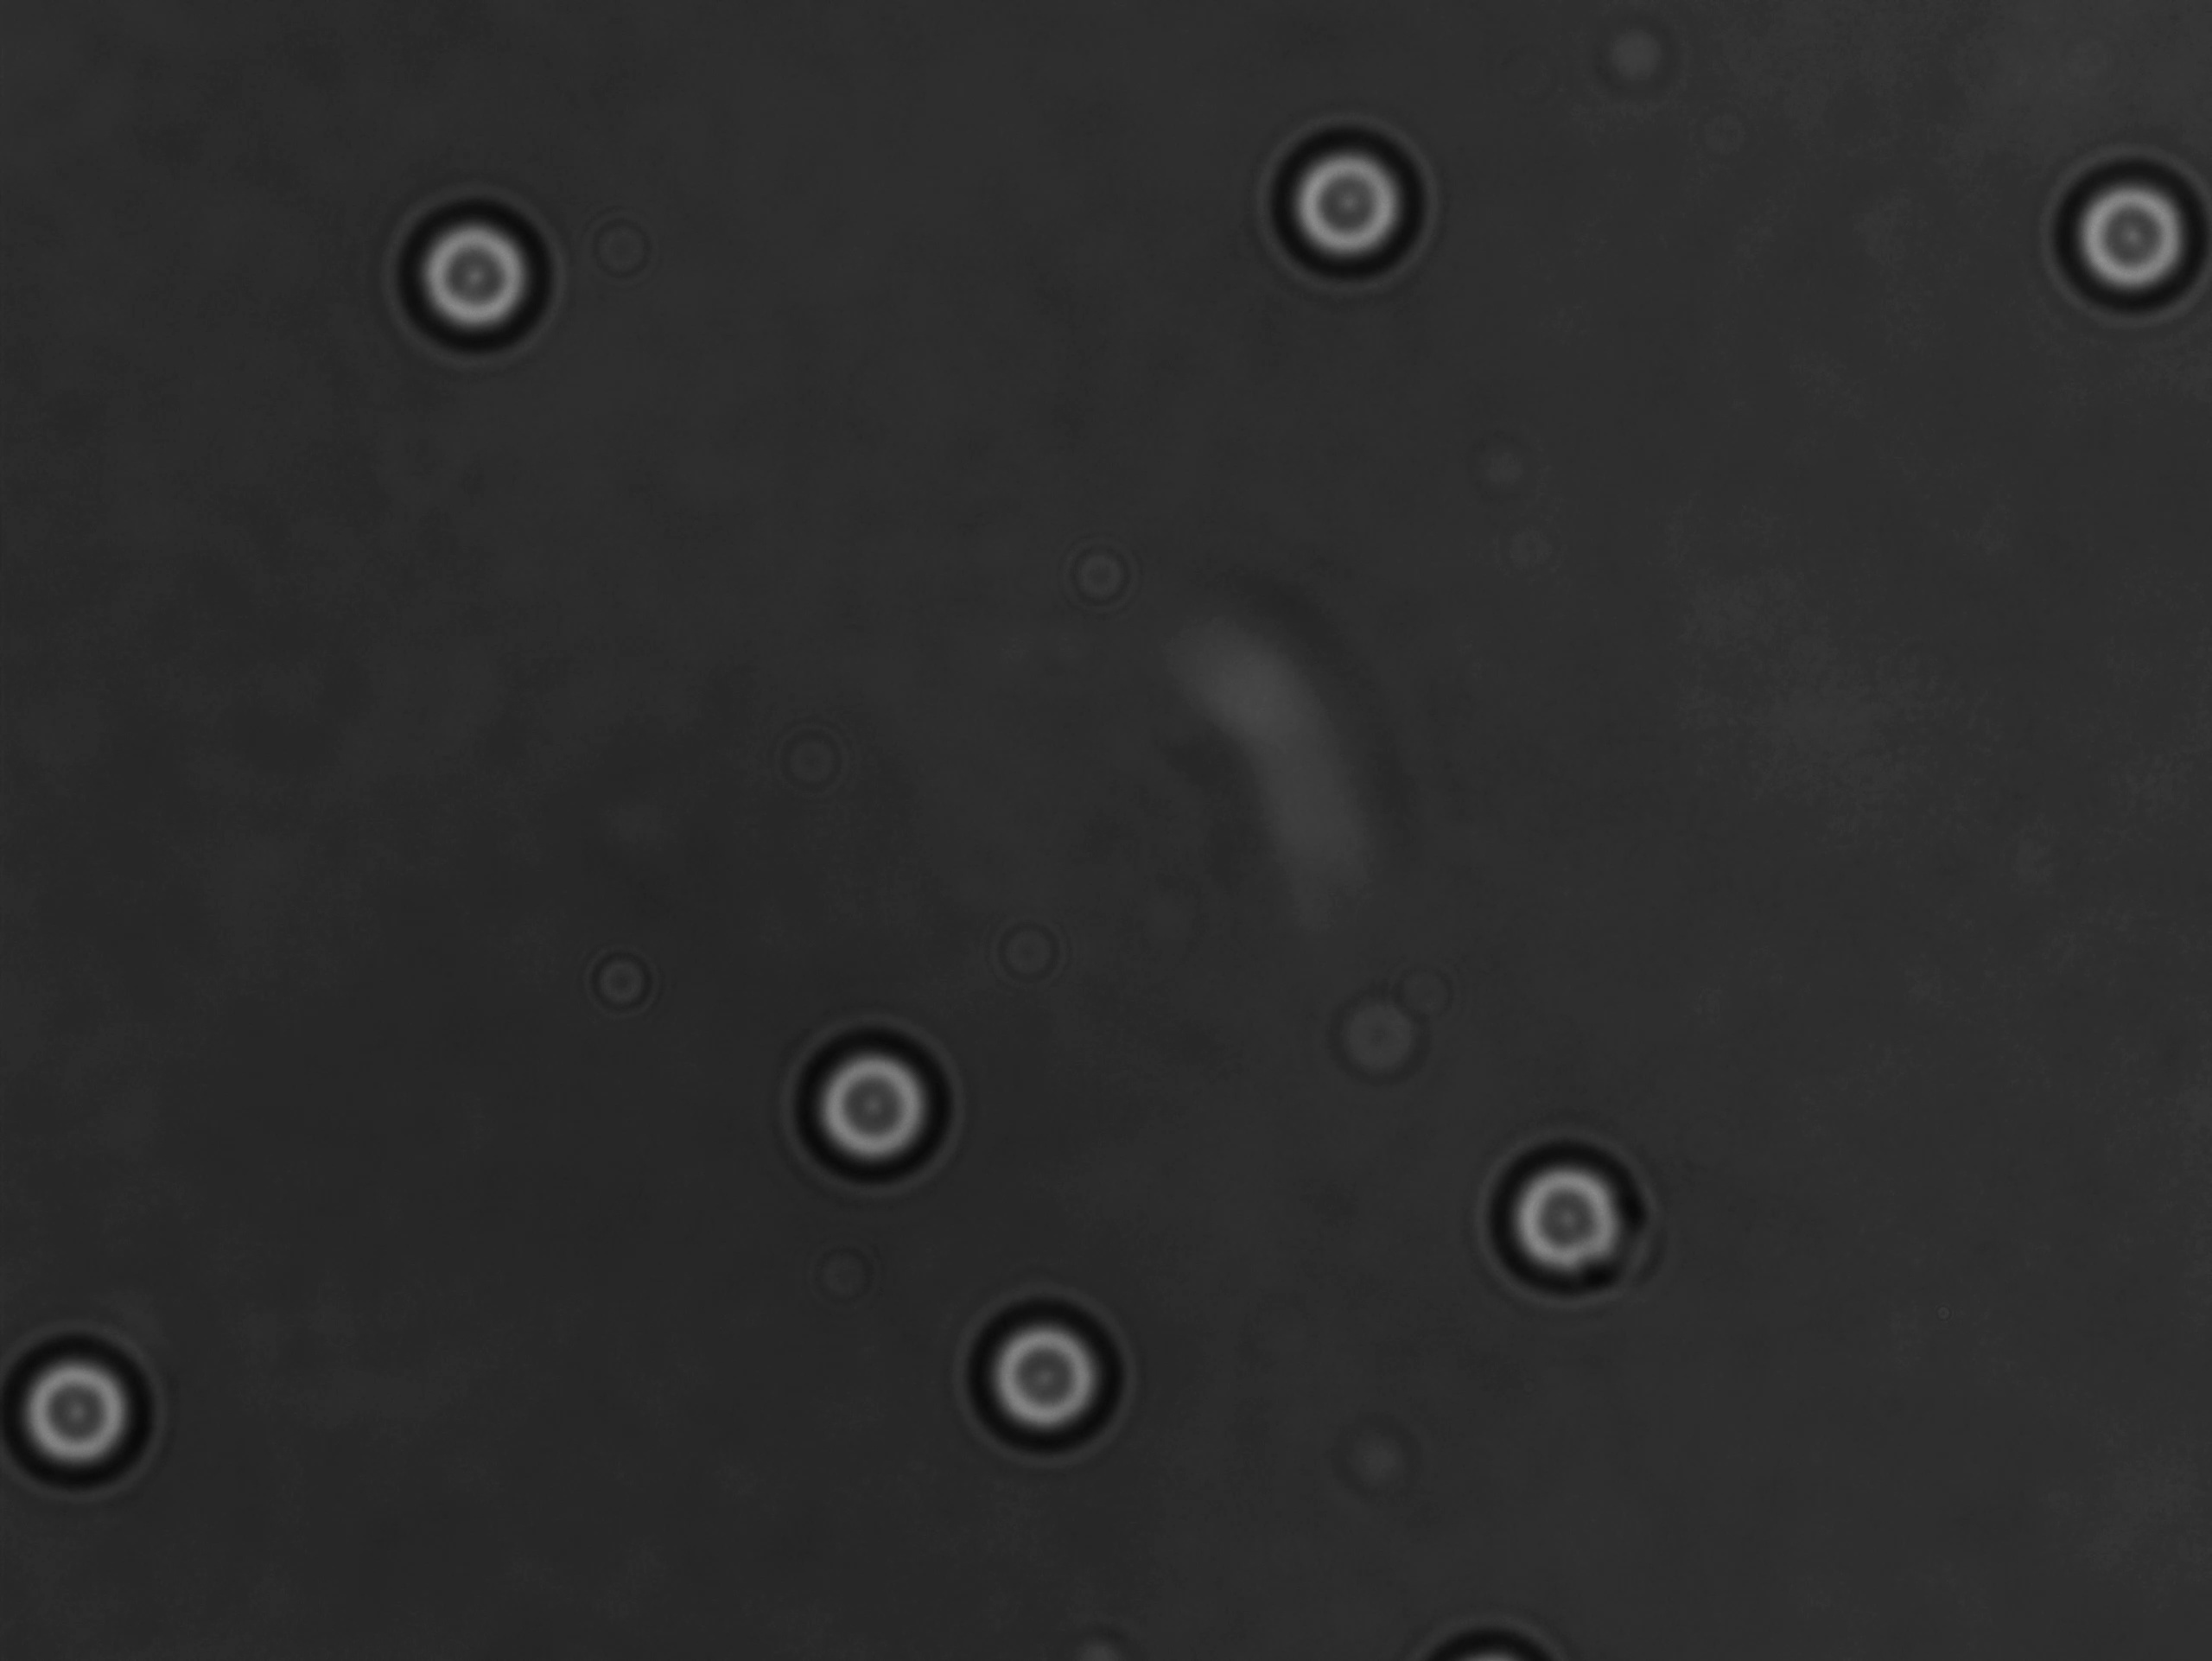depth:40: (769, 1014, 961, 1195), (1266, 115, 1462, 293), (1471, 1118, 1654, 1298), (937, 1288, 1127, 1457), (387, 190, 563, 370), (2043, 136, 2212, 323)
